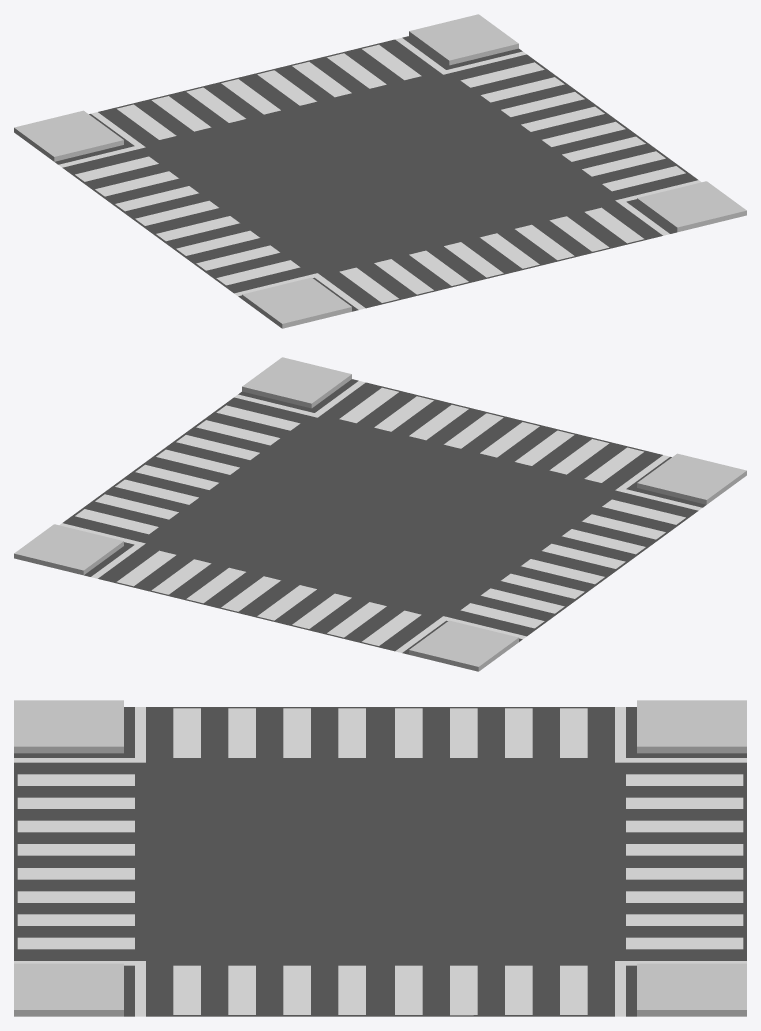
The model's file is road_intersection_walkable.glb.
3 views of the same model, one above another, from view 1: azimuth 30°, elevation 25°; view 2: azimuth 150°, elevation 25°; view 3: azimuth 270°, elevation 25° (orthographic). The views are drawn at different scales.
Parts seen in each view (by area): view 1: SPW_Urban_Road 2way_Intersection_01; view 2: SPW_Urban_Road 2way_Intersection_01; view 3: SPW_Urban_Road 2way_Intersection_01.
Part boxes in pixels (x1,y1,x2,y2): SPW_Urban_Road 2way_Intersection_01: (14, 14, 746, 328); SPW_Urban_Road 2way_Intersection_01: (14, 357, 746, 671); SPW_Urban_Road 2way_Intersection_01: (14, 700, 746, 1016).
Bounding box in the file's own units: 20 × 0.2 × 20.
1 material, 1 textured.
